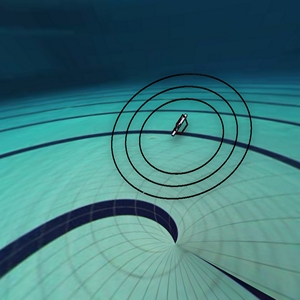circle: (104, 67, 259, 205)
submarine: (166, 108, 199, 147)
